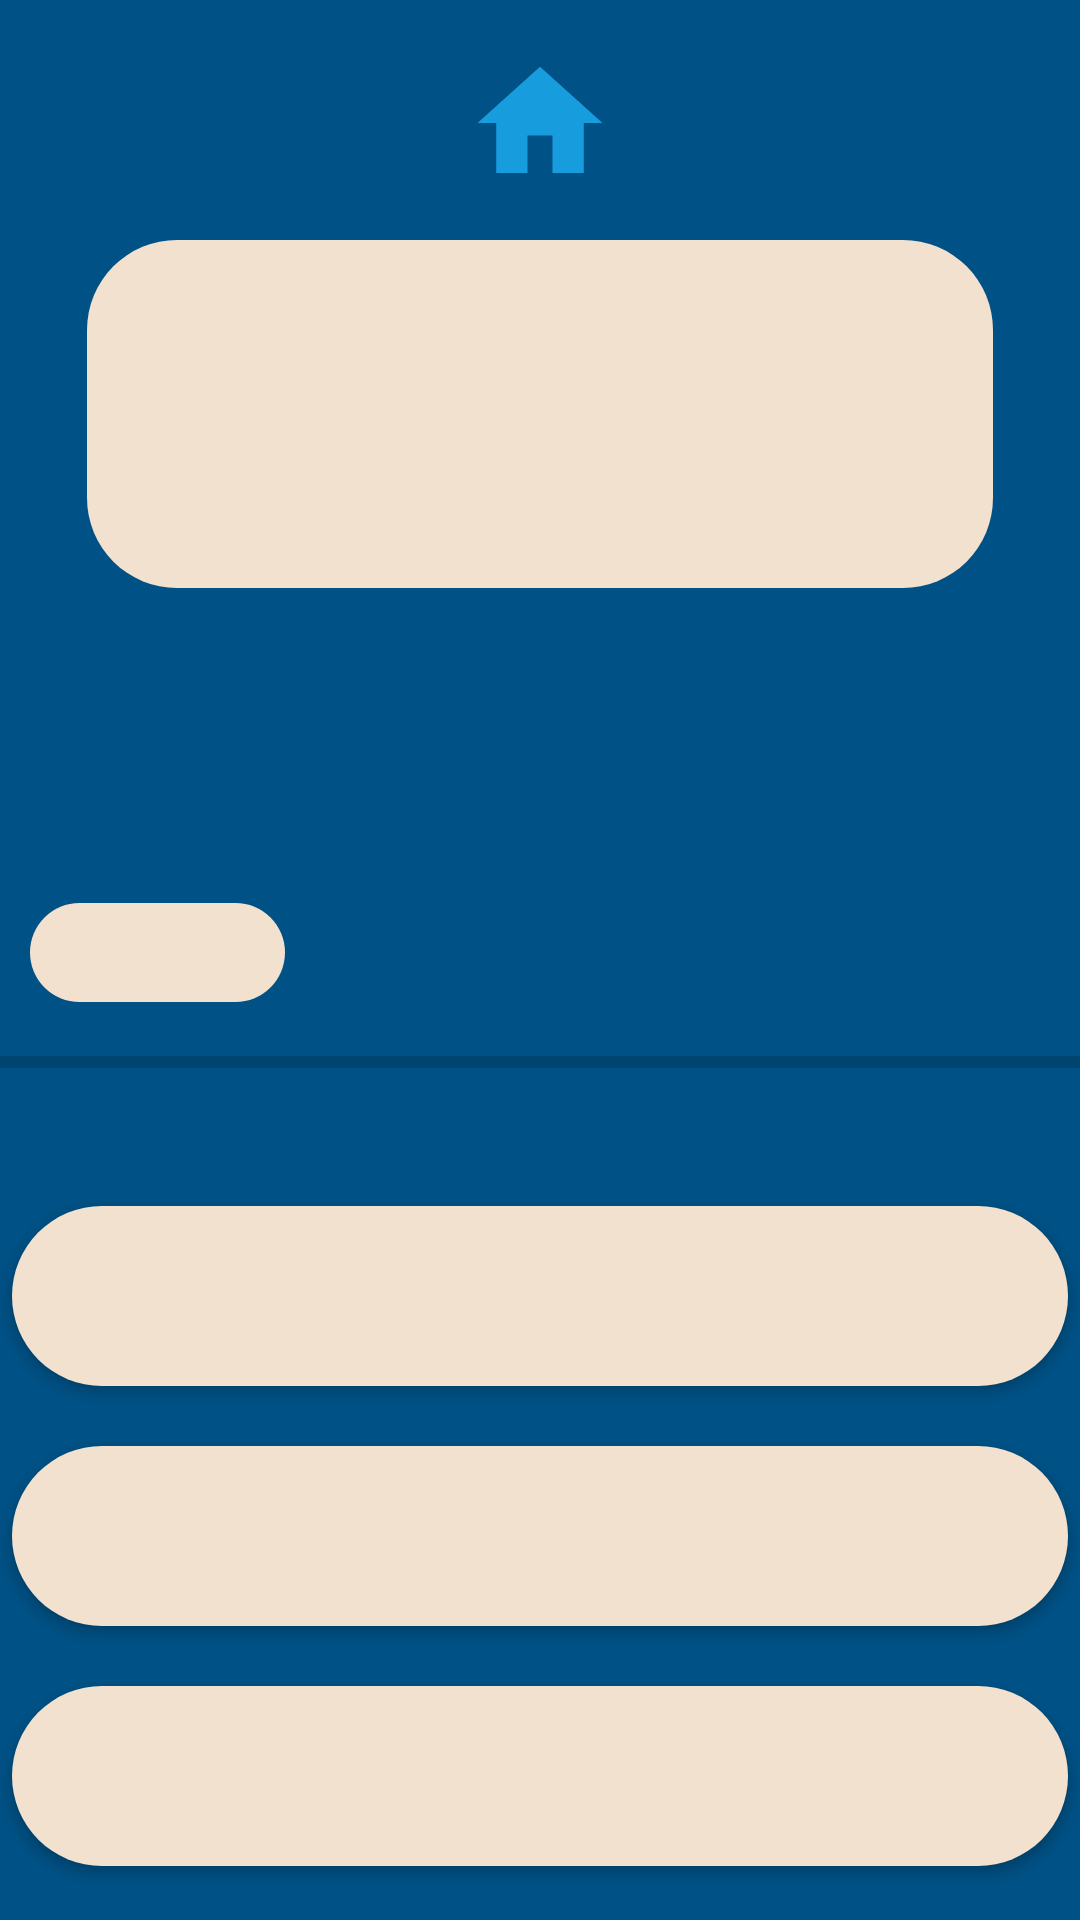

Screen size 1080×1920. Icon name, then its box in pixels as (x1, y1, x2, y2):
home: (478, 67, 602, 173)
